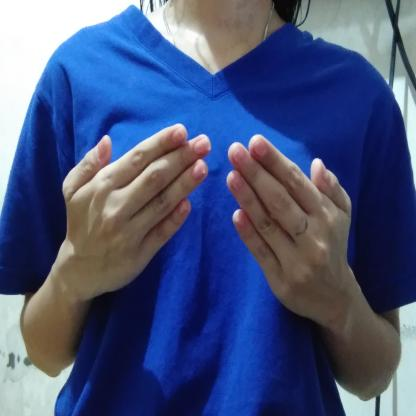night: (58, 121, 361, 324)
